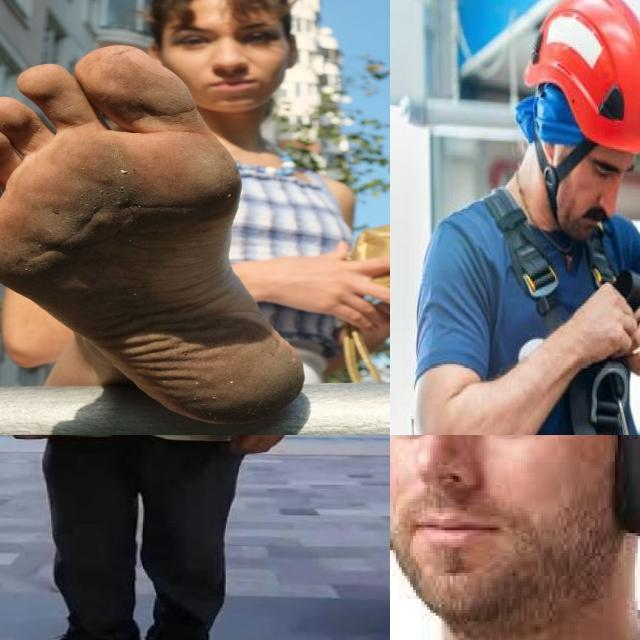Barefoots: (0, 45, 305, 424)
Ear-protection: (390, 435, 640, 563)
Harness: (481, 186, 640, 435)
hand_noglove: (211, 435, 309, 462)
person: (0, 435, 316, 640)
